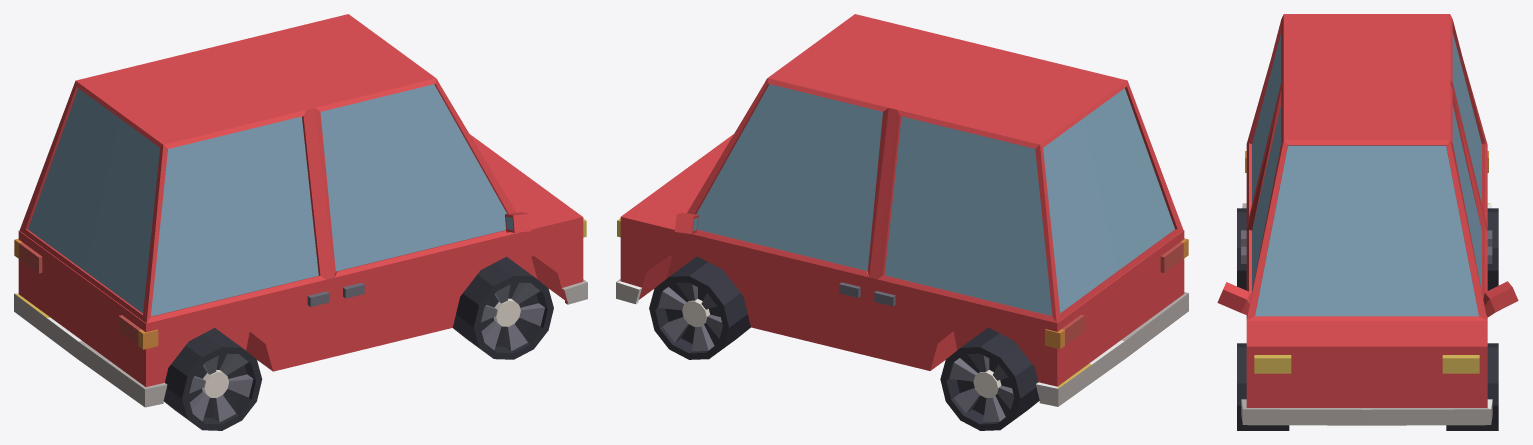
Rendered from car3.fbx.
The picture shows the model from 3 angles, left to right: view 1: azimuth 30°, elevation 25°; view 2: azimuth 150°, elevation 25°; view 3: azimuth 270°, elevation 25°; orthographic projection. The views are drawn at different scales.
Parts seen in each view (by area): view 1: Cylinder.011, Cylinder.001, Cylinder.008, Cylinder.007, Cylinder.006, Cylinder.004; view 2: Cylinder.011, Cylinder.001, Cylinder, Cylinder.002, Cylinder.004, Cylinder.006; view 3: Cylinder.011, Cylinder.001, Cylinder, Cylinder.008, Cylinder.002, Cylinder.009, Cylinder.003, Cylinder.005, Cylinder.010, Cylinder.007.
Boxes of the visible parts, x1,y1,x2,y2 form: Cylinder.011: (19,14,519,323); Cylinder.001: (14,134,587,407); Cylinder.008: (452,256,553,359); Cylinder.007: (163,328,262,430); Cylinder.006: (118,315,158,349); Cylinder.004: (14,238,42,273); Cylinder.011: (687,14,1183,322); Cylinder.001: (616,134,1188,406); Cylinder: (649,256,750,359); Cylinder.002: (940,327,1039,430); Cylinder.004: (1045,314,1084,349); Cylinder.006: (1160,238,1188,272); Cylinder.011: (1246,14,1487,320); Cylinder.001: (1241,203,1492,425); Cylinder: (1446,343,1498,430); Cylinder.008: (1237,343,1289,430); Cylinder.002: (1487,208,1498,290); Cylinder.009: (1483,281,1518,317); Cylinder.003: (1442,355,1479,373); Cylinder.005: (1254,355,1291,373); Cylinder.010: (1217,282,1251,315); Cylinder.007: (1237,208,1246,290).
Bounding box in the file's own units: 516 × 304 × 316.
